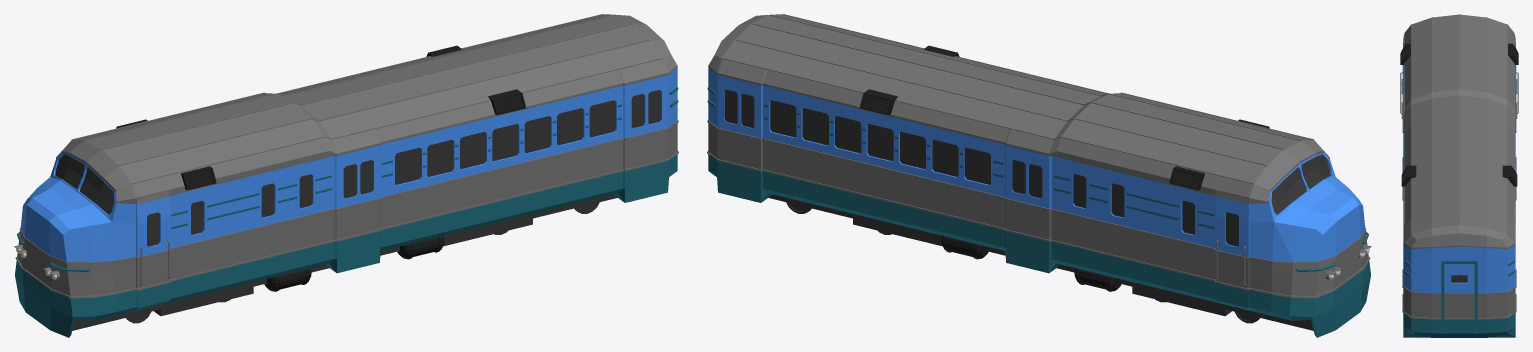
Rendered from train_carriages.fbx.
3 renders of one model, left to right at view 1: azimuth 30°, elevation 25°; view 2: azimuth 150°, elevation 25°; view 3: azimuth 270°, elevation 25°, orthographic. The views are drawn at different scales.
Visible parts, largest first — view 1: Wheels3.001; view 2: Wheels3.001; view 3: Wheels3.001.
Boxes of the visible parts, box(x1,y1,x2,y2) form: Wheels3.001: box(14, 14, 678, 337); Wheels3.001: box(707, 14, 1371, 337); Wheels3.001: box(1400, 14, 1518, 337).
Size of the model in its own units: 1035 by 268 by 215.
